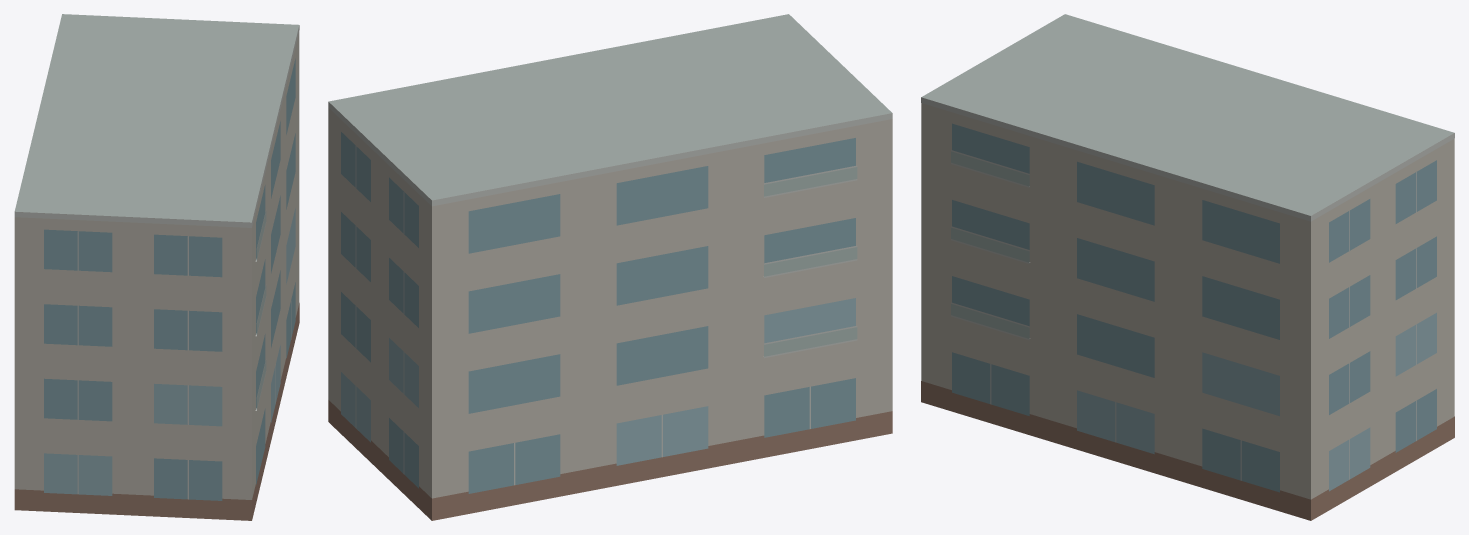
Rendered from survey-upis-32662245.glb.
3 views of the same model, side by side, from view 1: azimuth 30°, elevation 25°; view 2: azimuth 150°, elevation 25°; view 3: azimuth 270°, elevation 25° (orthographic). The views are drawn at different scales.
Visible parts, largest first — view 1: survey-upis-32662245.tmp; view 2: survey-upis-32662245.tmp; view 3: survey-upis-32662245.tmp.
Boxes of the visible parts, box(x1,y1,x2,y2) form: survey-upis-32662245.tmp: box(14, 14, 299, 520); survey-upis-32662245.tmp: box(328, 14, 892, 520); survey-upis-32662245.tmp: box(921, 14, 1454, 520).
Bounding box in the file's own units: 18.91 × 13.3 × 21.11.
